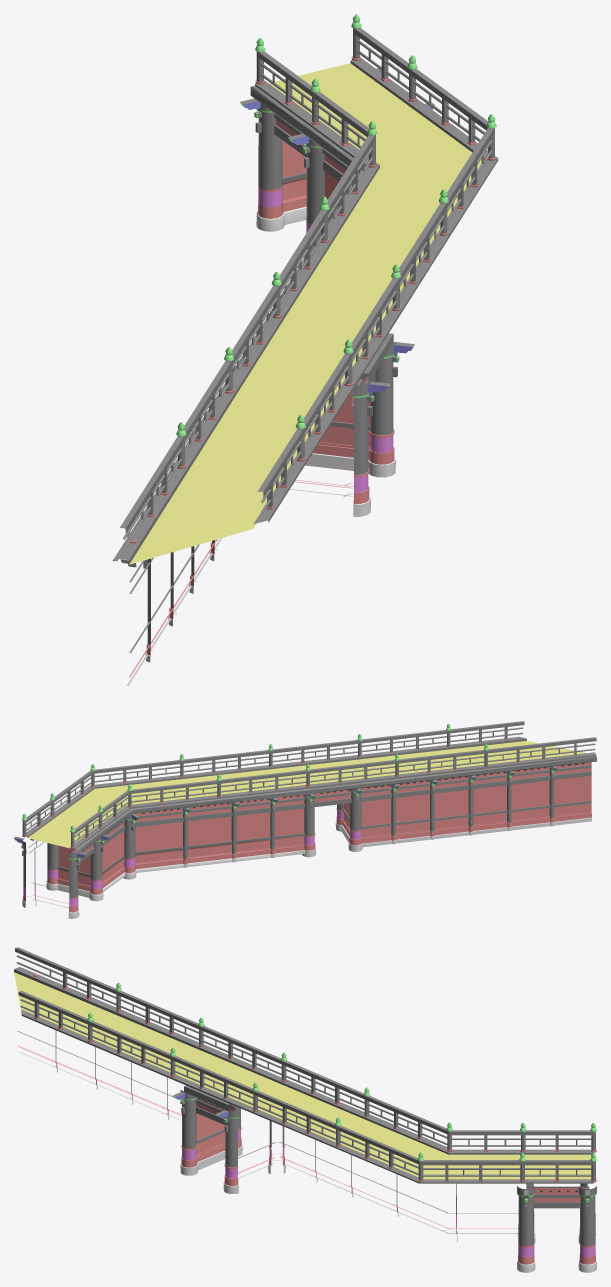
Rendered from SM_ENV_LKNVLD_WallSet_Bend_Lod1.gltf.
3 renders of one model, top to bottom at view 1: azimuth 30°, elevation 25°; view 2: azimuth 150°, elevation 25°; view 3: azimuth 270°, elevation 25°, orthographic. The views are drawn at different scales.
Parts seen in each view (by area): view 1: SM_ENV_LKNVLD_WallSet_Bend_Lod1; view 2: SM_ENV_LKNVLD_WallSet_Bend_Lod1; view 3: SM_ENV_LKNVLD_WallSet_Bend_Lod1.
Part boxes in pixels (<box>): SM_ENV_LKNVLD_WallSet_Bend_Lod1: <box>113,14,498,685</box>; SM_ENV_LKNVLD_WallSet_Bend_Lod1: <box>14,721,596,918</box>; SM_ENV_LKNVLD_WallSet_Bend_Lod1: <box>14,947,596,1272</box>.
Bounding box in the file's own units: 33.93 × 8.37 × 37.58.
